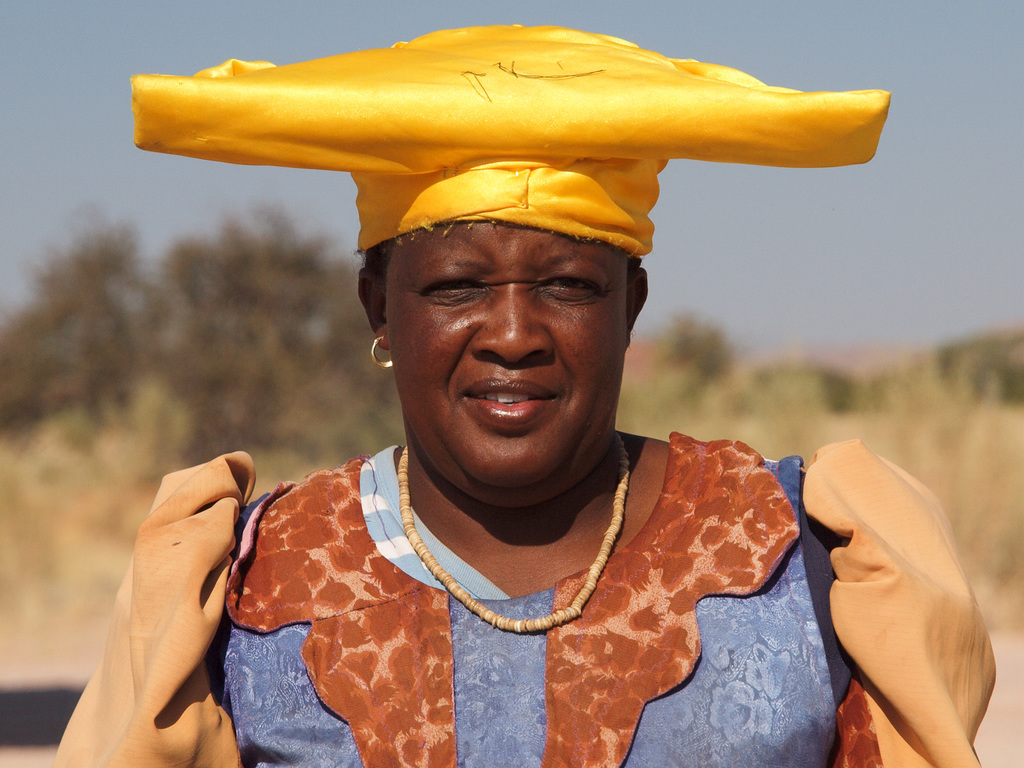Person: (55, 23, 996, 768)
